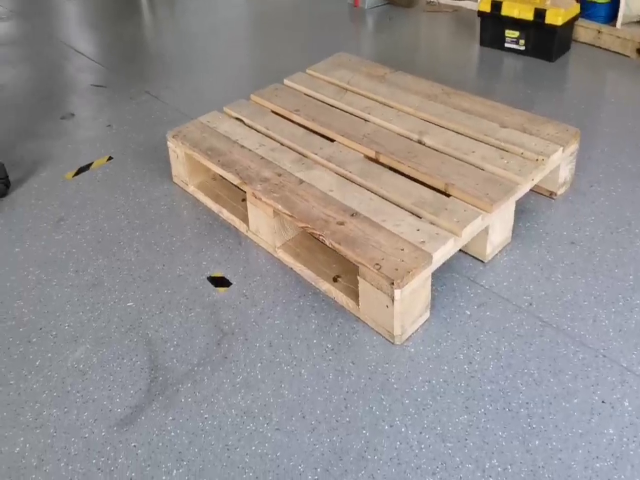block: (359, 257, 432, 345), (484, 187, 513, 265), (244, 189, 276, 255), (555, 128, 583, 200), (166, 133, 187, 193)
front: (397, 126, 580, 345)
hole pallet: (431, 227, 486, 312), (513, 164, 559, 240)
